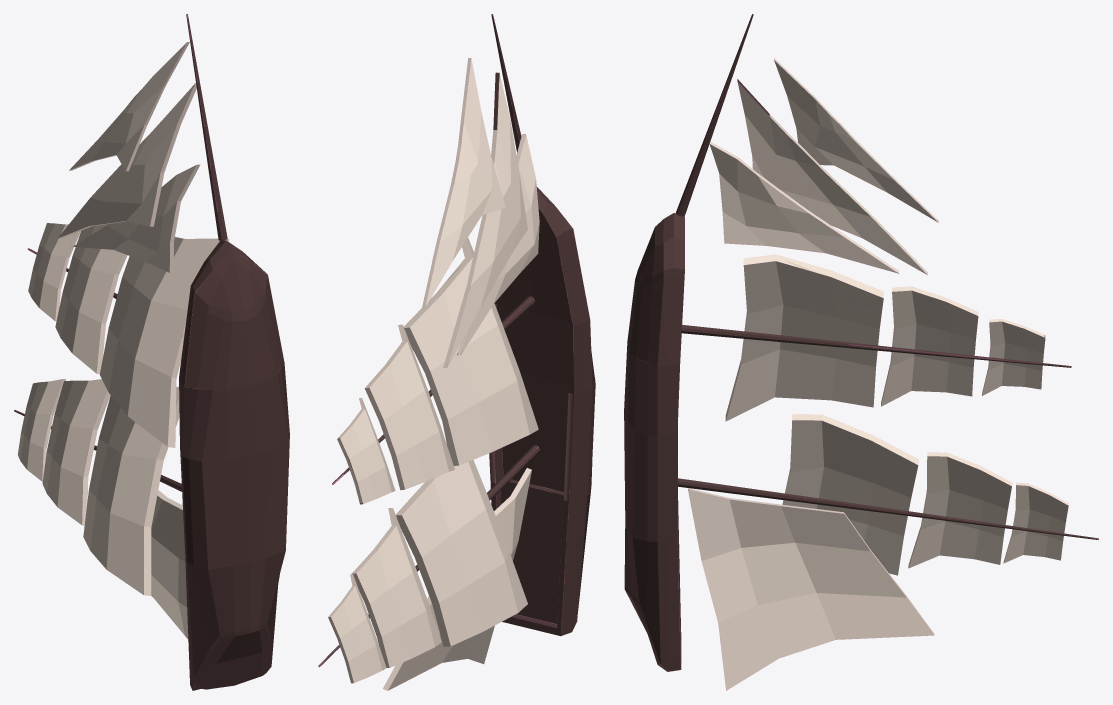
Rendered from brig.fbx.
3 views of the same model, side by side, from view 1: azimuth 30°, elevation 25°; view 2: azimuth 150°, elevation 25°; view 3: azimuth 270°, elevation 25° (orthographic).
Parts seen in each view (by area): view 1: Cube; view 2: Cube; view 3: Cube.
Part boxes in pixels (x1=…): Cube: x1=14, y1=14, x2=289, y2=690; Cube: x1=318, y1=14, x2=595, y2=690; Cube: x1=624, y1=14, x2=1098, y2=690.
Size of the model in its own units: 143 by 858 by 555.
1 material, 1 textured.
